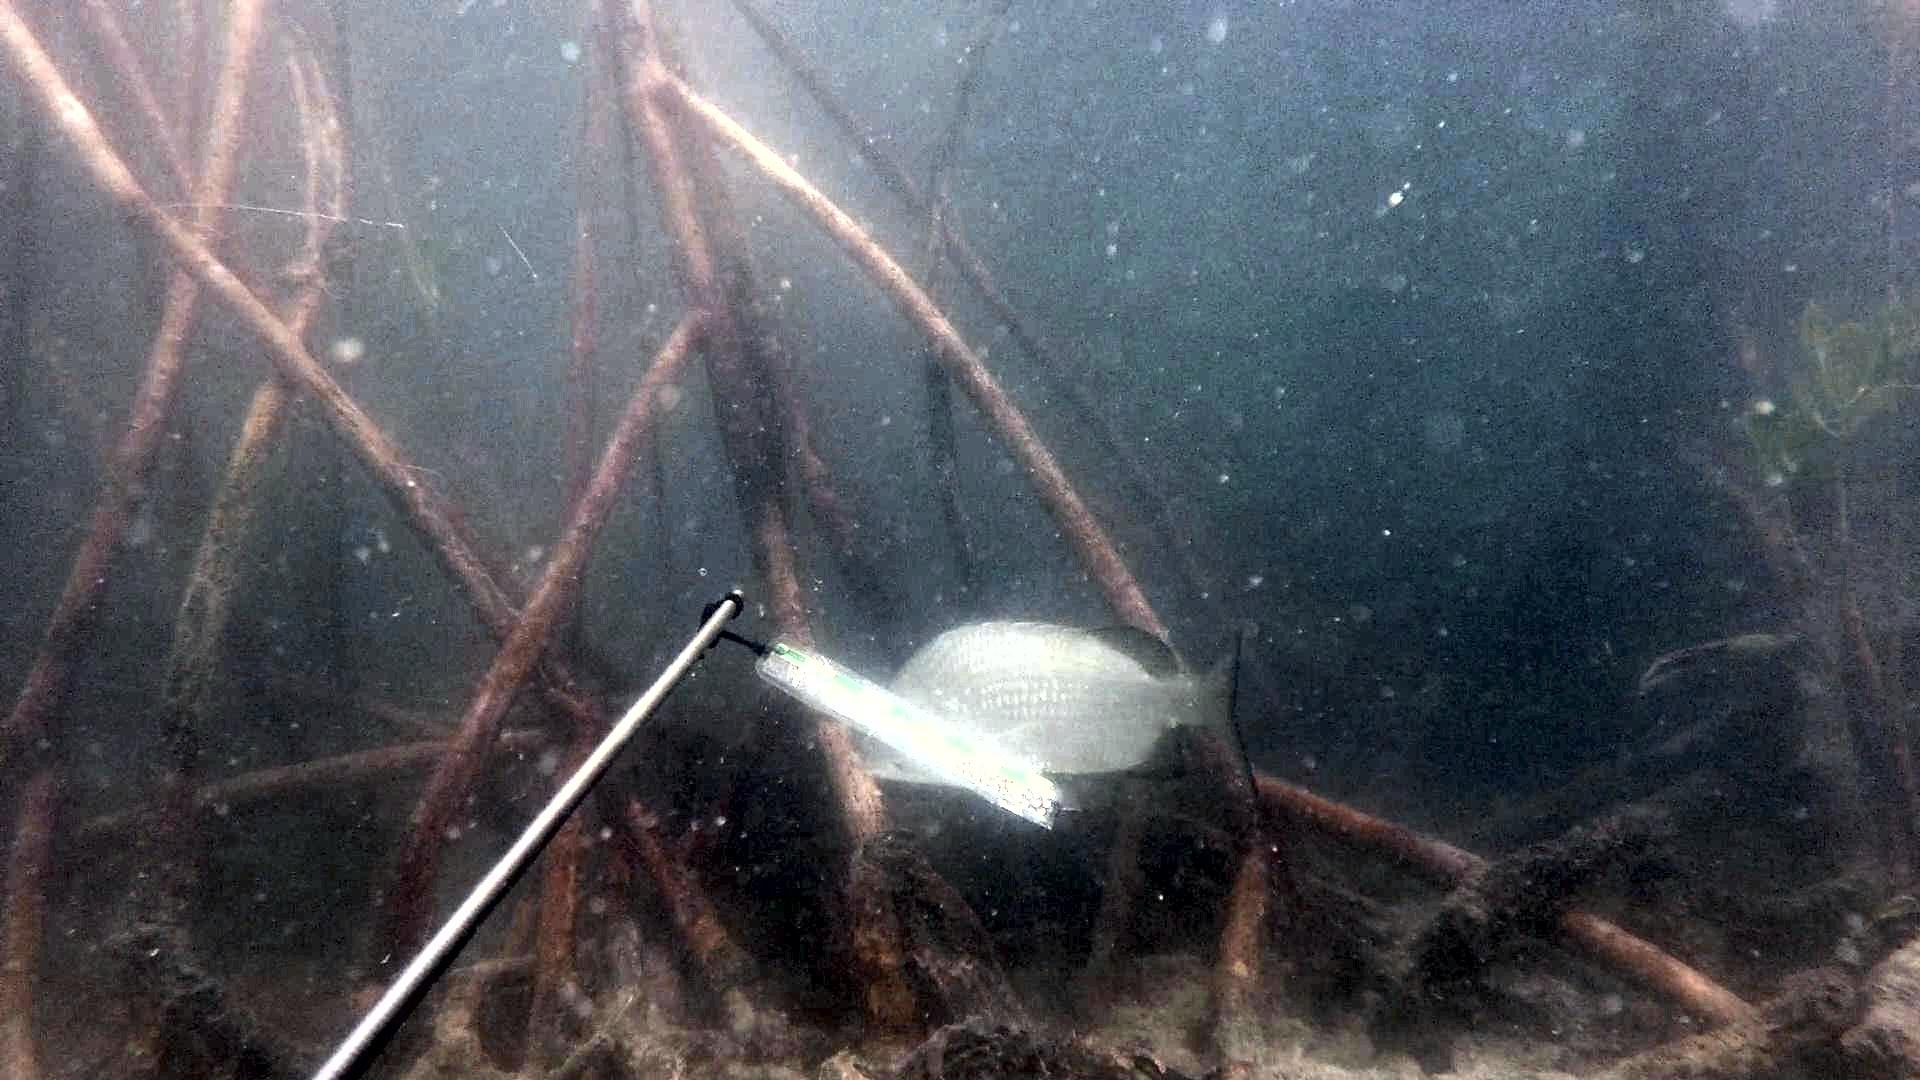acanthopagrus palmaris: (856, 597, 1276, 840)
